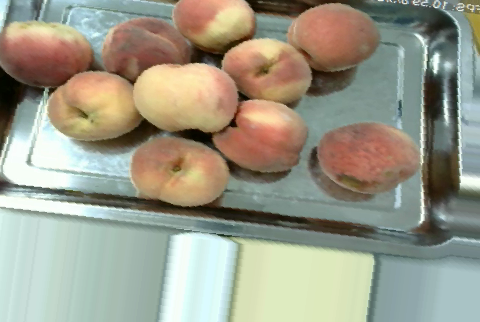Peach: (318, 118, 421, 194), (43, 68, 142, 142), (223, 35, 315, 109), (128, 136, 228, 204), (284, 2, 378, 74), (213, 98, 305, 171), (136, 63, 235, 129), (1, 18, 91, 87), (98, 15, 190, 77), (172, 1, 254, 53)
